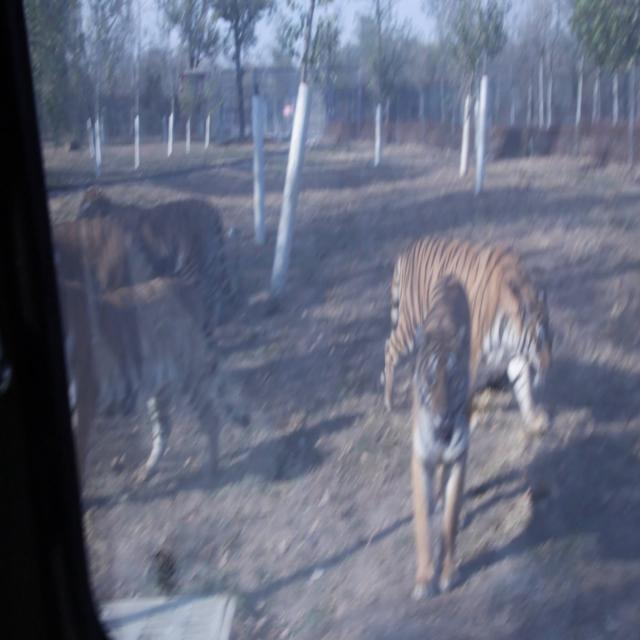Tiger: (50, 279, 232, 502), (380, 221, 560, 439), (411, 278, 488, 594), (55, 174, 234, 293)
